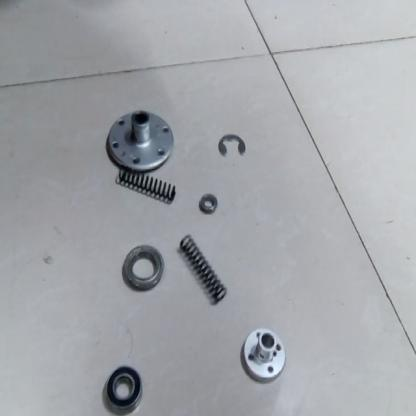FOD: (103, 103, 175, 173), (180, 233, 230, 307), (240, 321, 288, 384), (117, 166, 179, 204), (121, 243, 162, 293), (104, 362, 143, 414), (218, 132, 246, 160), (197, 192, 219, 214)
